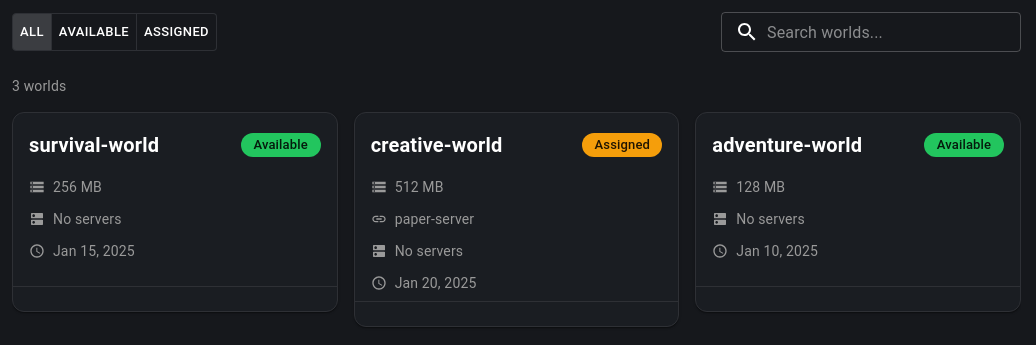
Test case: WorldList › should filter worlds by assigned status (#670)
Click the button "Assigned" at [176, 32], box [136,13,217,51]
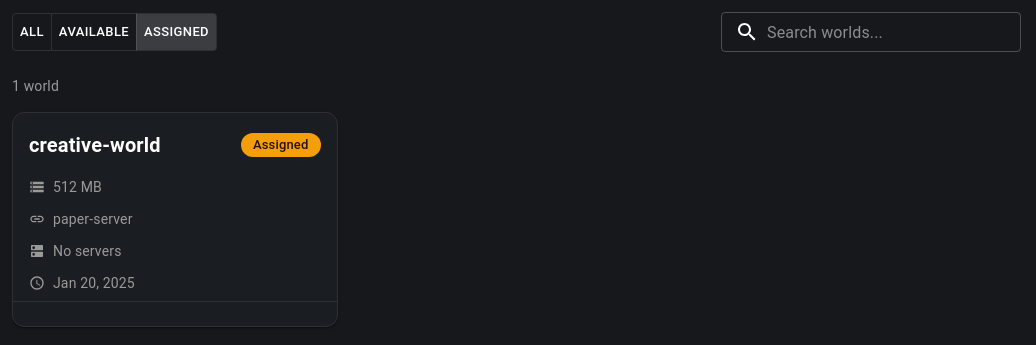
Expected: the heading "creative-world" is shown, [29,133,161,157]
Now the heading "survival-world" is gone
Now the heading "adventure-world" is gone
